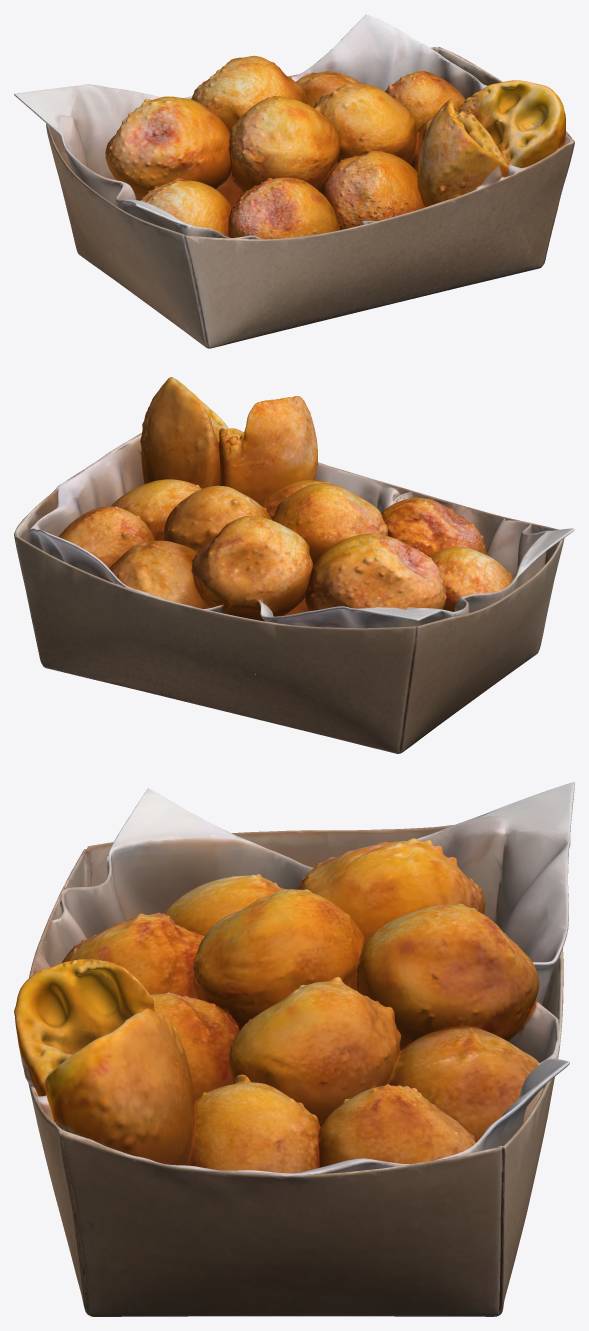
File: cheese-puff.glb
3 renders of one model, top to bottom at view 1: azimuth 30°, elevation 25°; view 2: azimuth 150°, elevation 25°; view 3: azimuth 270°, elevation 25°, orthographic. The views are drawn at different scales.
Parts seen in each view (by area): view 1: tripo_node_1880401a-6609-4e08-b224-a459c5e0fa2d; view 2: tripo_node_1880401a-6609-4e08-b224-a459c5e0fa2d; view 3: tripo_node_1880401a-6609-4e08-b224-a459c5e0fa2d.
Part boxes in pixels (x1,y1,x2,y2): tripo_node_1880401a-6609-4e08-b224-a459c5e0fa2d: (14,14,574,348); tripo_node_1880401a-6609-4e08-b224-a459c5e0fa2d: (14,377,574,753); tripo_node_1880401a-6609-4e08-b224-a459c5e0fa2d: (14,782,574,1316).
Size of the model in its own units: 0.9812 by 0.3904 by 0.6872.
Materials: 1 (1 with a texture image).
